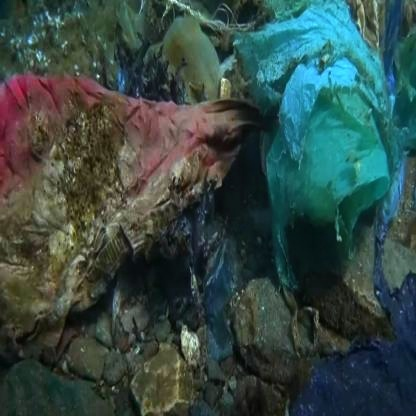plastic: (259, 25, 412, 276), (32, 105, 212, 294)
